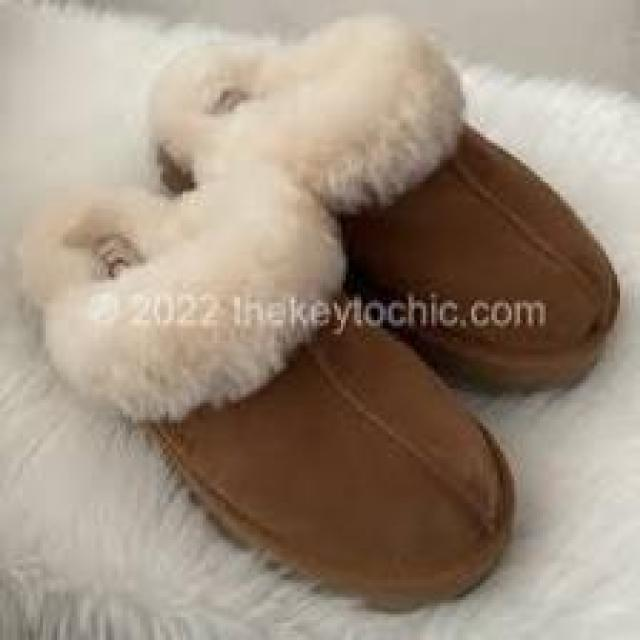shoe: (25, 177, 514, 614), (145, 17, 623, 388)
